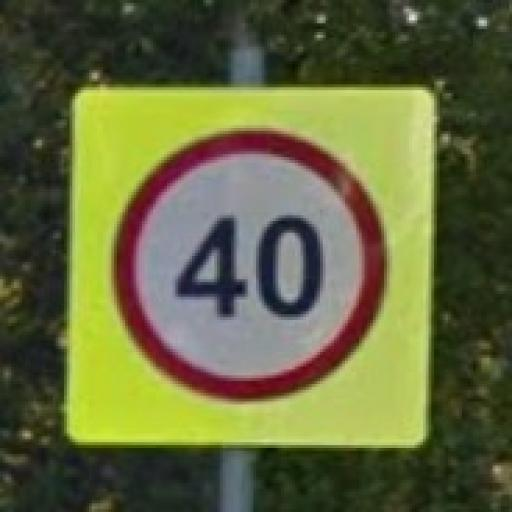traffic_sign: (110, 126, 394, 408)
